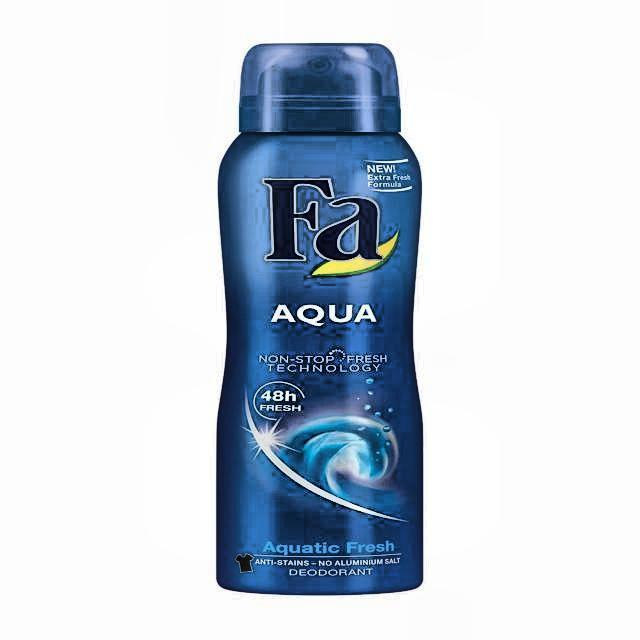metal: (215, 43, 426, 598)
